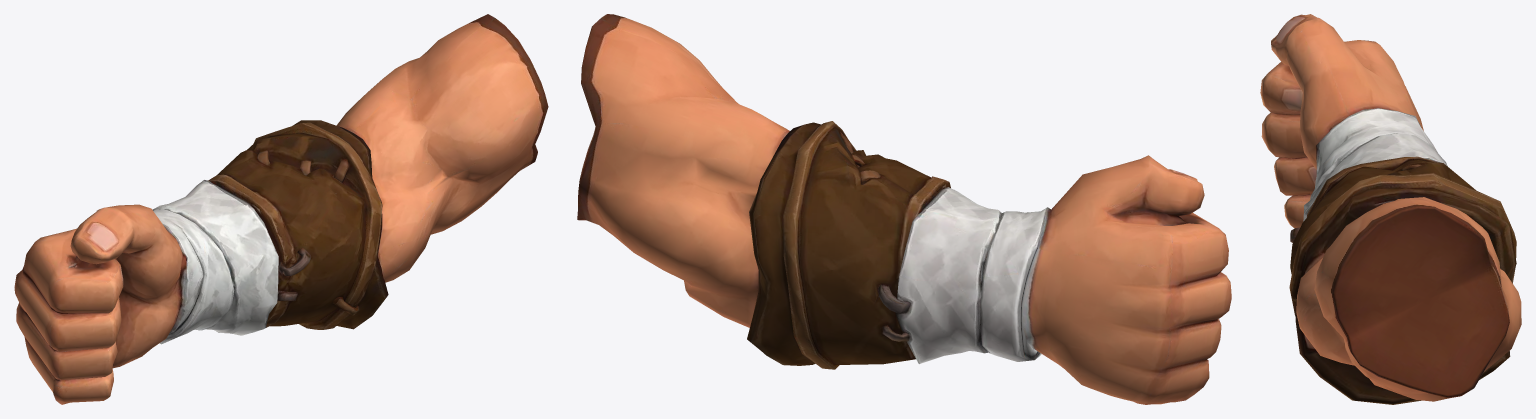
Rendered from bras_heros.glb.
3 views of the same model, side by side, from view 1: azimuth 30°, elevation 25°; view 2: azimuth 150°, elevation 25°; view 3: azimuth 270°, elevation 25° (orthographic). The views are drawn at different scales.
Size of the model in its own units: 0.9565 by 0.4551 by 0.3593.
Materials: 1 (1 with a texture image).
